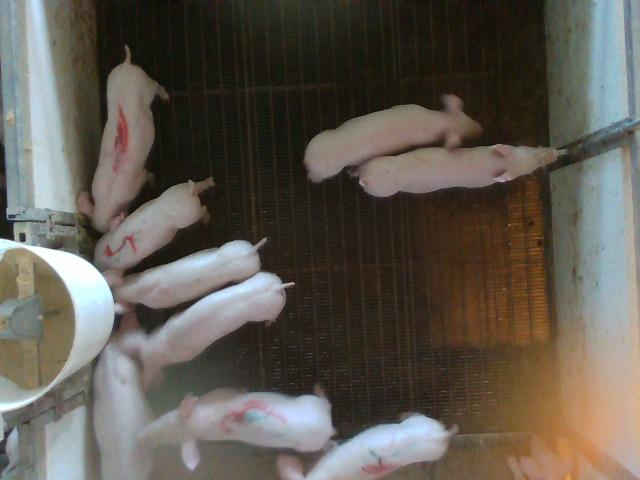pig-1: (79, 46, 169, 232)
pig-3: (139, 389, 334, 469)
pig-5: (94, 178, 215, 271)
